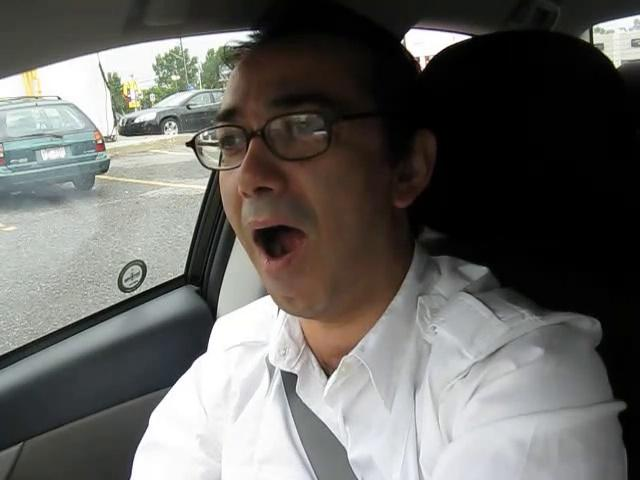open_eyeL: (194, 123, 264, 170)
open_eyeR: (261, 103, 349, 159)
yawn: (230, 209, 325, 275)
